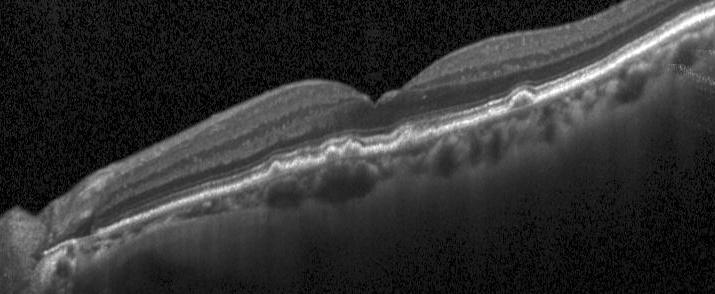lamellar_macular_rupture: (352, 81, 411, 105)
retinal_drusen: (513, 95, 532, 108), (399, 136, 416, 150), (344, 145, 360, 157), (326, 152, 340, 162), (271, 165, 279, 176)
